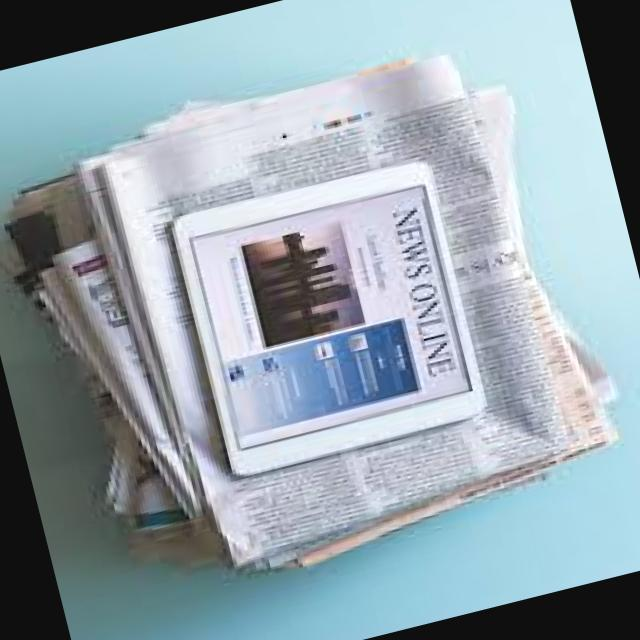paper: (49, 45, 606, 588)
